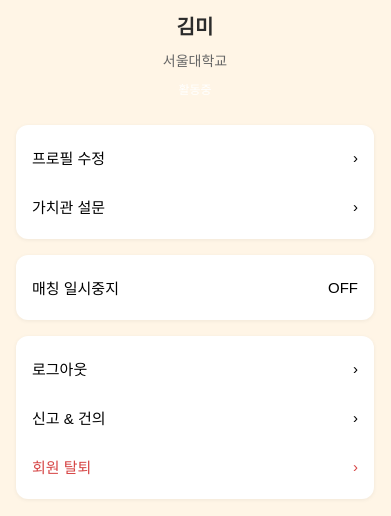
Test: MyPage › 저장 성공 후 refreshUser가 실패해도 롤백하지 않음
The image size is (391, 516).
Step 1. Click the button "매칭 일시중지 OFF" → click(75, 288), box [16,263,374,312]
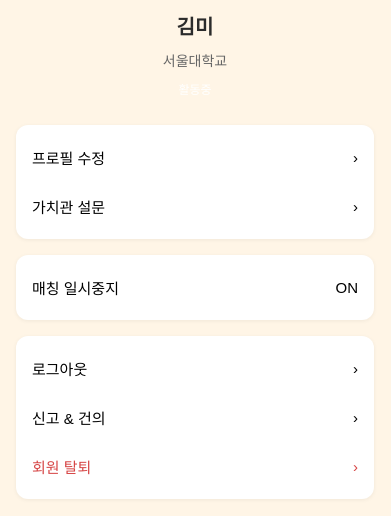
Result: the button "매칭 일시중지 ON" is shown at [16,263,374,312]
